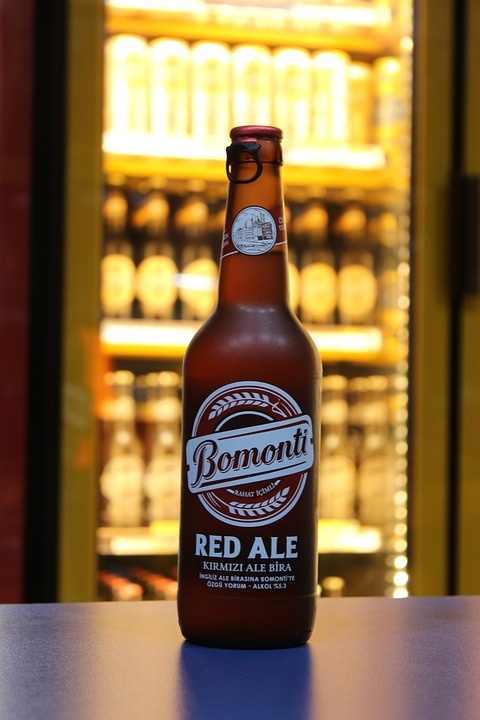beerBottle: (182, 119, 318, 649)
